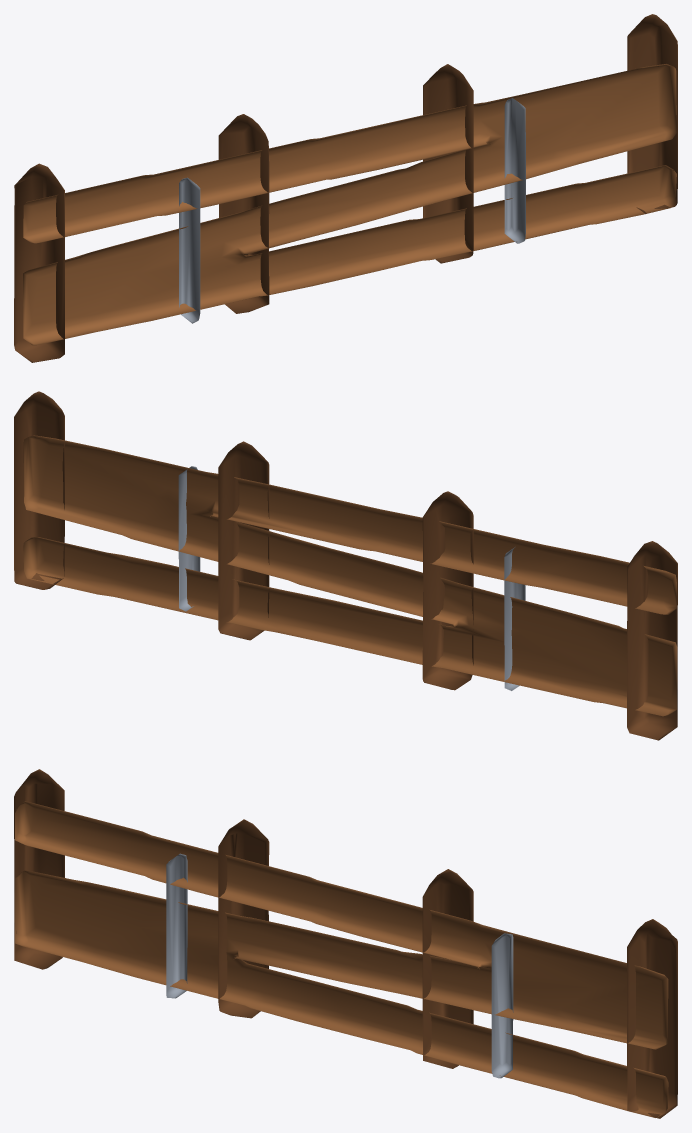
Rendered from build_barricade.glb.
3 views of the same model, one above another, from view 1: azimuth 30°, elevation 25°; view 2: azimuth 150°, elevation 25°; view 3: azimuth 330°, elevation 25° (orthographic).
Visible parts, largest first — view 1: body; view 2: body; view 3: body.
Boxes of the visible parts, x1,y1,x2,y2 form: body: [14, 14, 677, 362]; body: [14, 391, 677, 740]; body: [14, 769, 677, 1118].
Size of the model in its own units: 14 by 3.97 by 0.9161.
1 material, 1 textured.
